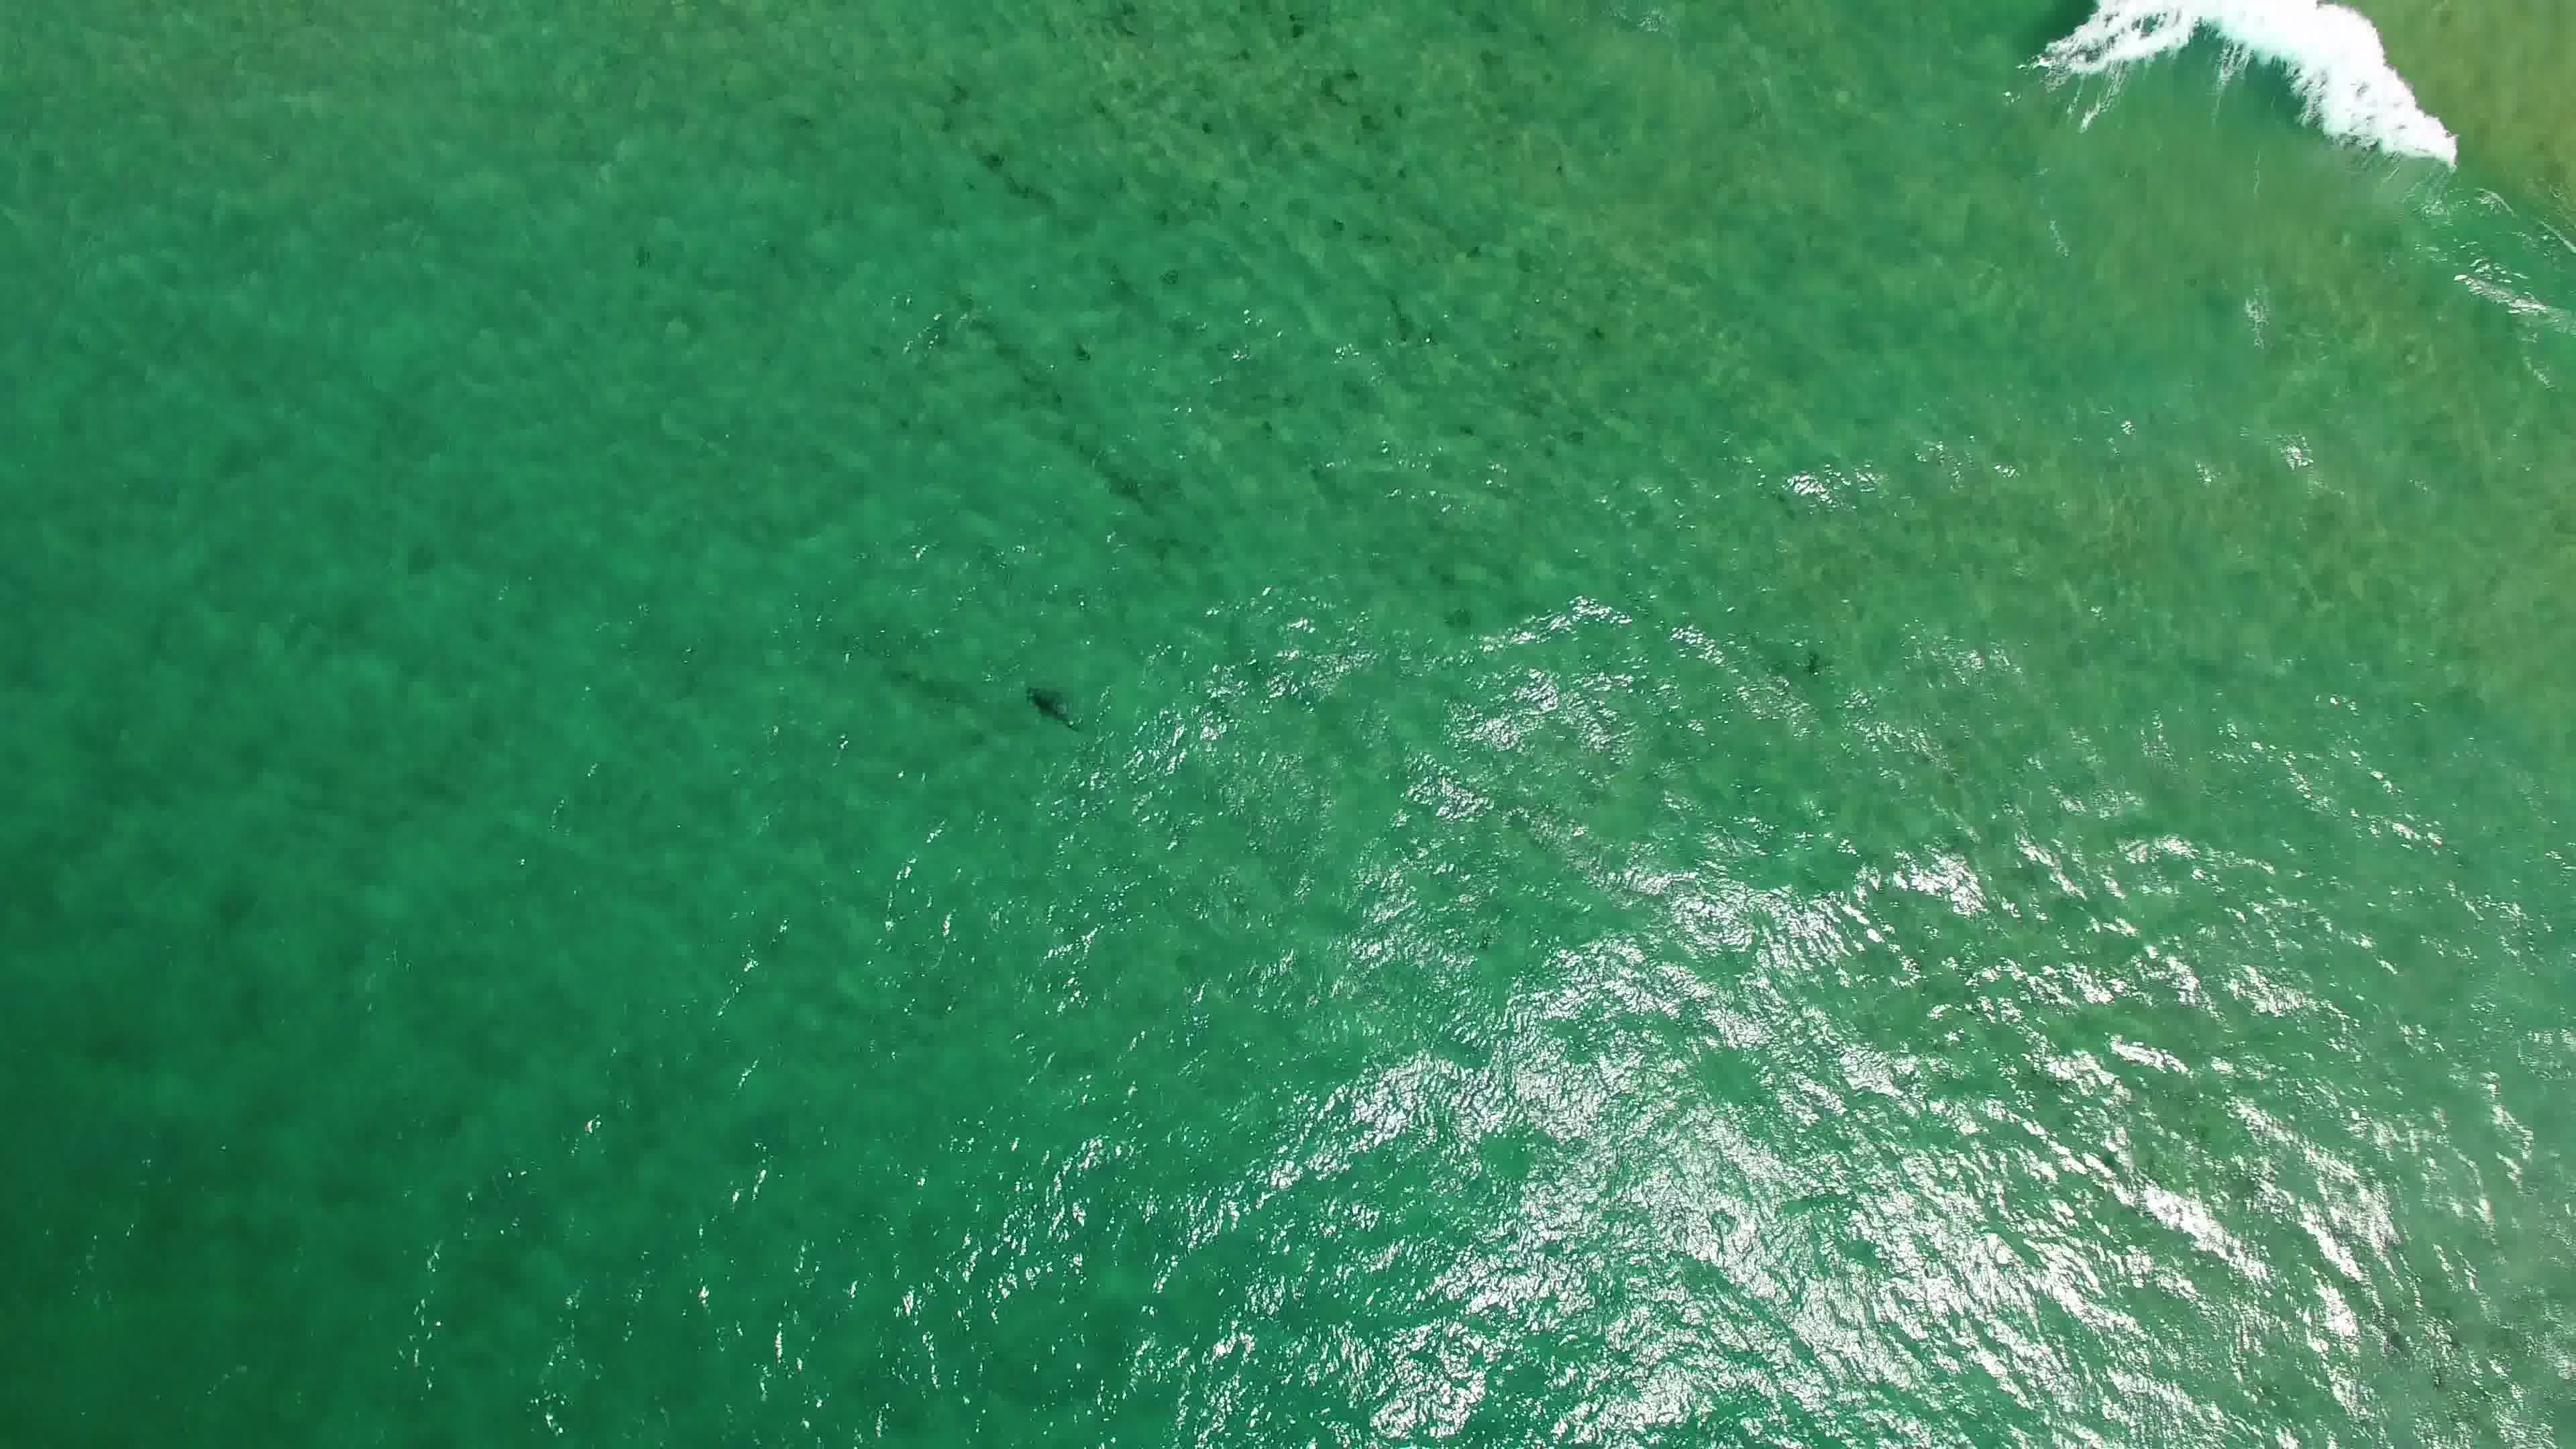shark: (1012, 669, 1092, 731)
